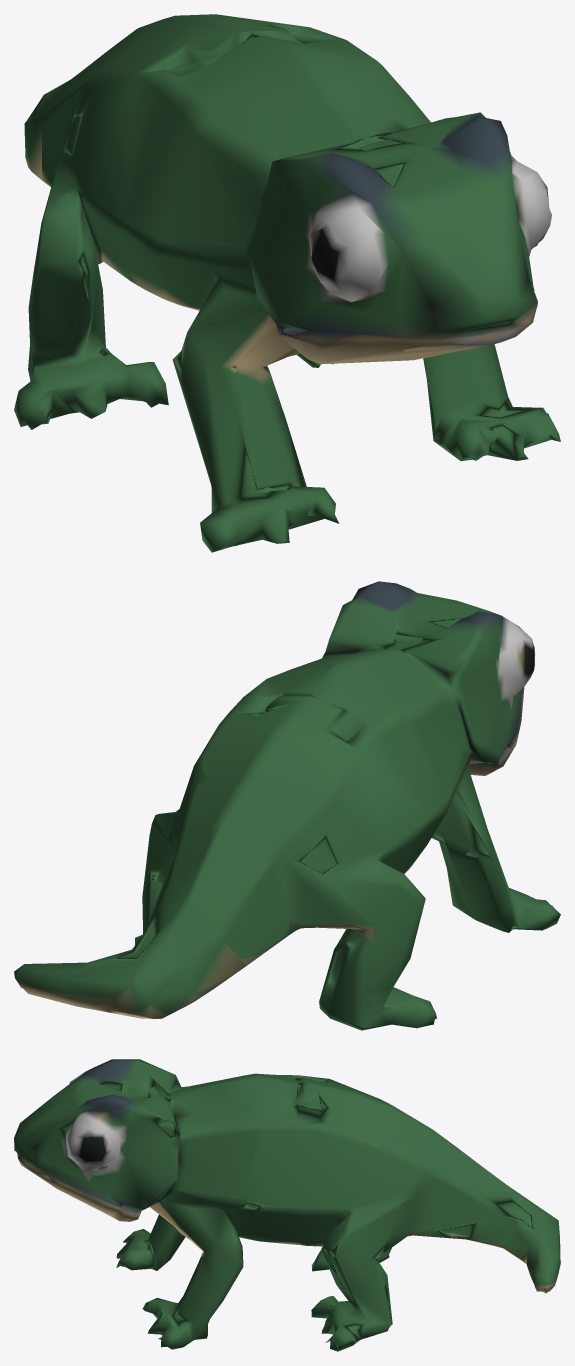
Rendered from gen3d-chameleon-lod0.glb.
3 renders of one model, top to bottom at view 1: azimuth 30°, elevation 25°; view 2: azimuth 150°, elevation 25°; view 3: azimuth 270°, elevation 25°, orthographic. The views are drawn at different scales.
Parts seen in each view (by area): view 1: part_0; view 2: part_0; view 3: part_0.
Part boxes in pixels (x1,y1,x2,y2): part_0: [14, 14, 560, 552]; part_0: [14, 581, 560, 1030]; part_0: [14, 1059, 560, 1351].
Bounding box in the file's own units: 1.08 × 1 × 2.23.
